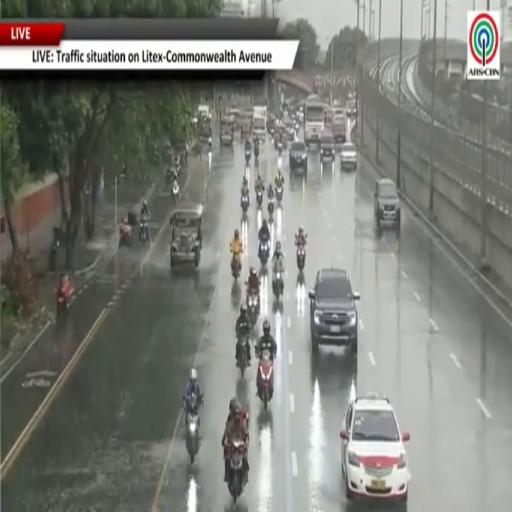car: (340, 393, 410, 506), (309, 268, 360, 355), (375, 179, 401, 229), (289, 141, 307, 175), (320, 131, 335, 163), (340, 142, 357, 170), (333, 118, 346, 146), (284, 119, 295, 141)
jeepney: (171, 202, 203, 268), (197, 104, 212, 140), (220, 117, 233, 145), (274, 122, 287, 149), (240, 111, 252, 136), (230, 108, 240, 131)
motorcycle: (228, 440, 246, 503), (258, 350, 273, 410), (186, 396, 199, 463), (57, 281, 73, 315), (237, 335, 248, 378), (247, 291, 259, 327), (119, 223, 133, 248), (273, 269, 284, 299), (49, 239, 59, 271), (296, 243, 306, 272), (231, 255, 241, 282), (139, 217, 149, 244), (259, 240, 269, 265), (240, 194, 250, 213), (172, 180, 179, 202), (275, 185, 283, 204), (256, 189, 263, 208), (268, 198, 273, 216), (255, 144, 259, 159), (208, 137, 212, 152), (278, 141, 282, 156), (246, 149, 250, 163)
truck: (304, 95, 324, 146), (253, 105, 267, 142), (254, 105, 267, 122)
